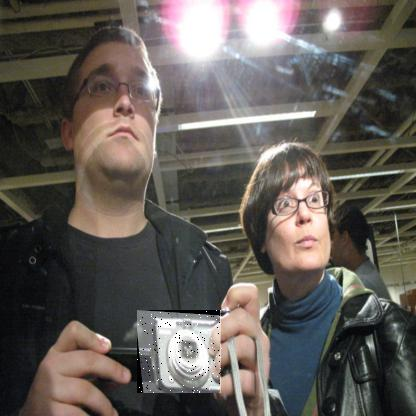Camera: (139, 311, 225, 395)
